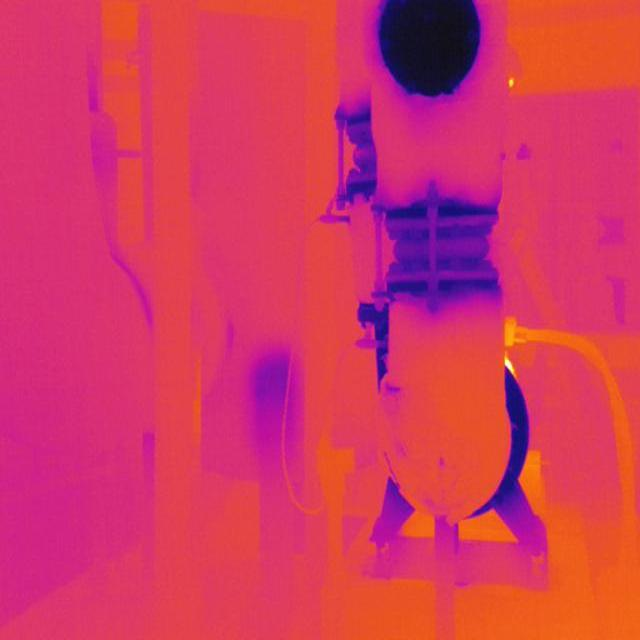leakage: (381, 376, 405, 410)
